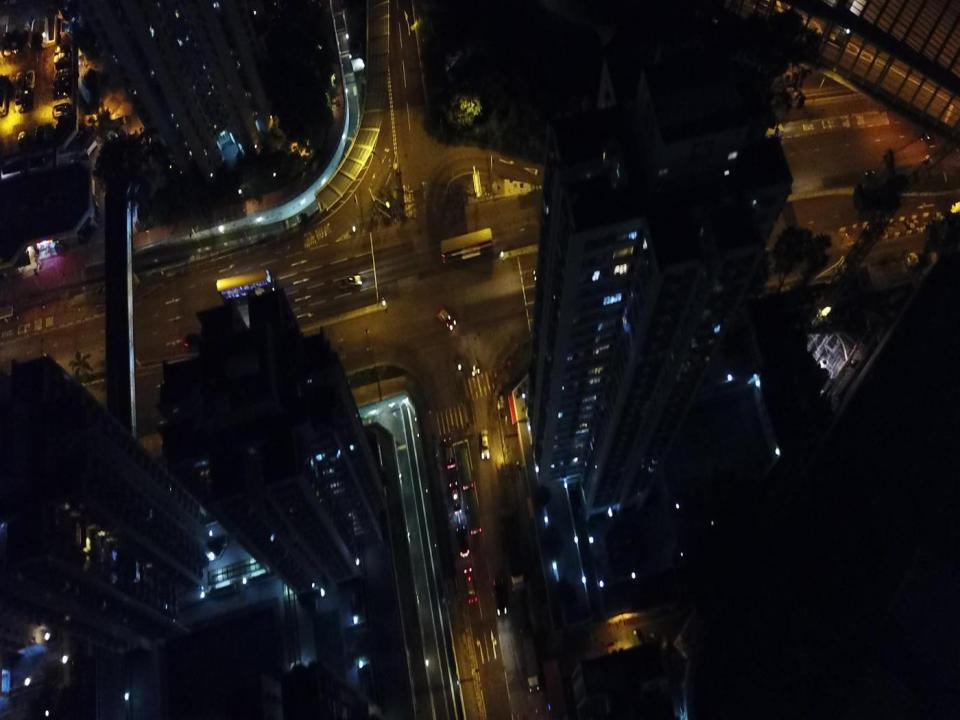bus: (216, 268, 276, 302), (440, 228, 494, 264), (461, 488, 482, 535), (456, 446, 474, 490)
car: (492, 576, 509, 616), (434, 304, 457, 331), (462, 566, 478, 604), (455, 524, 470, 558), (442, 436, 456, 470), (449, 481, 462, 515), (338, 274, 363, 290), (52, 72, 72, 90), (480, 428, 490, 460), (52, 66, 71, 82), (34, 124, 46, 148), (51, 85, 70, 100), (184, 333, 204, 347), (52, 43, 70, 58), (13, 89, 24, 113), (52, 103, 69, 118), (24, 86, 34, 111), (53, 57, 72, 70), (24, 68, 36, 88), (53, 51, 71, 63), (18, 130, 27, 152), (15, 72, 24, 90)
truck: (500, 513, 527, 593), (522, 638, 540, 692)
van: (466, 346, 480, 376)
